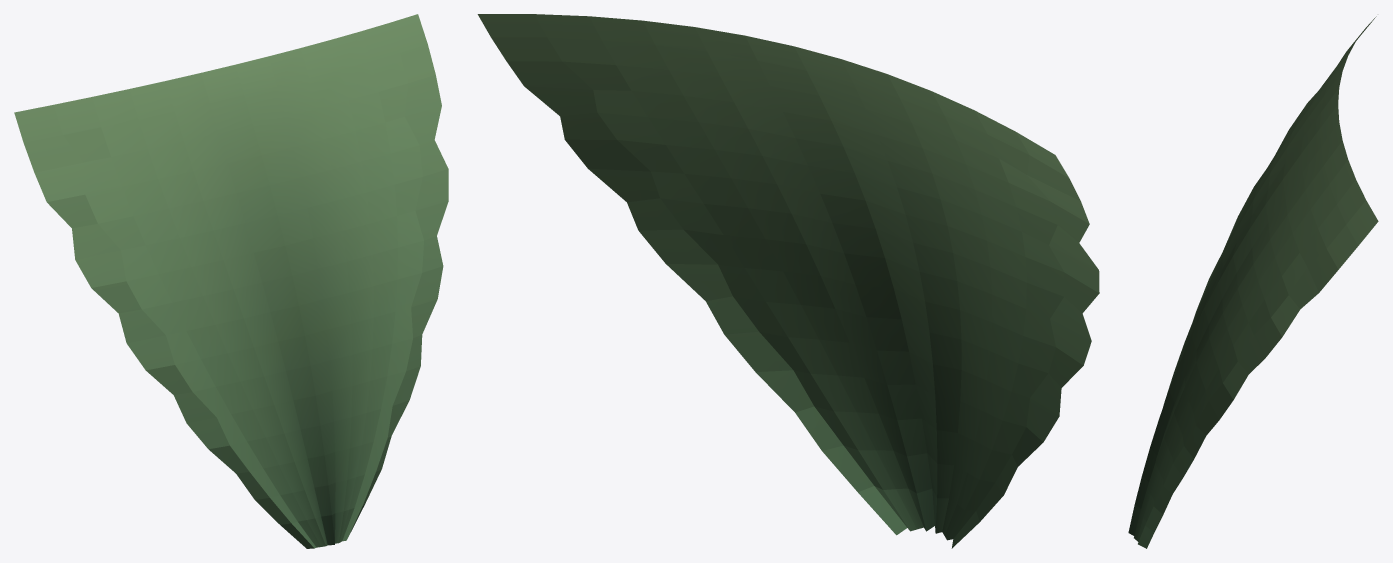
File: Leaf_A.glb
The picture shows the model from 3 angles, left to right: view 1: azimuth 30°, elevation 25°; view 2: azimuth 150°, elevation 25°; view 3: azimuth 270°, elevation 25°; orthographic projection. The views are drawn at different scales.
Parts seen in each view (by area): view 1: Leaf_A; view 2: Leaf_A; view 3: Leaf_A.
Boxes of the visible parts, box(x1,y1,x2,y2) form: Leaf_A: box(14, 14, 448, 548); Leaf_A: box(477, 14, 1099, 548); Leaf_A: box(1128, 16, 1378, 548).
Bounding box in the file's own units: 0.3998 × 0.3903 × 0.2036.
